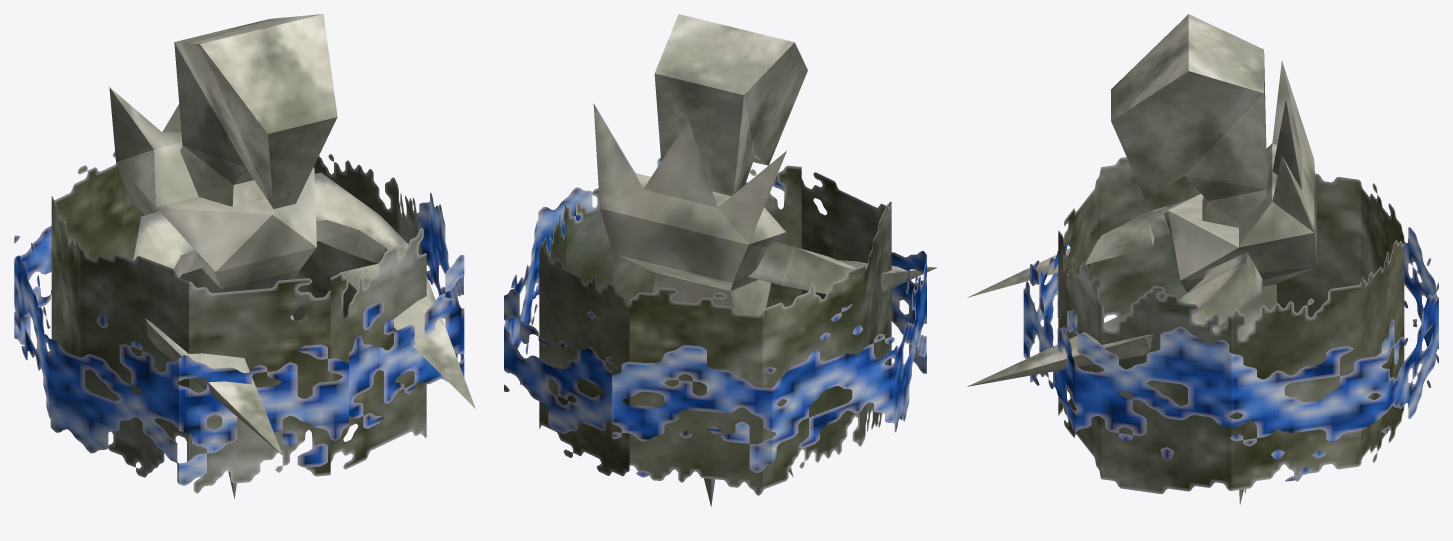
Rendered from zephyr.obj.
The picture shows the model from 3 angles, left to right: view 1: azimuth 30°, elevation 25°; view 2: azimuth 150°, elevation 25°; view 3: azimuth 270°, elevation 25°; orthographic projection. The views are drawn at different scales.
Parts seen in each view (by area): view 1: Effect01, Effect02, Head, Body, ArmLeft, ArmRight; view 2: Effect01, Effect02, Body, Head, ArmRight; view 3: Effect01, Effect02, Head, Body, ArmLeft, ArmRight.
Part boxes in pixels (box(x1,y1,x2,y2)): Effect01: box(51, 151, 426, 493); Effect02: box(14, 192, 464, 485); Head: box(174, 14, 337, 208); Body: box(109, 87, 316, 498); ArmLeft: box(314, 172, 475, 408); ArmRight: box(133, 211, 282, 455); Effect01: box(539, 165, 891, 495); Effect02: box(504, 158, 926, 477); Body: box(593, 104, 793, 506); Head: box(654, 14, 807, 196); ArmRight: box(748, 241, 936, 294); Effect01: box(1058, 157, 1404, 494); Effect02: box(1023, 212, 1438, 481); Head: box(1111, 14, 1267, 227); Body: box(1168, 61, 1316, 504); ArmLeft: box(967, 252, 1262, 386); ArmRight: box(967, 195, 1197, 297).
Size of the model in its own units: 1.44 by 1.77 by 1.64.
